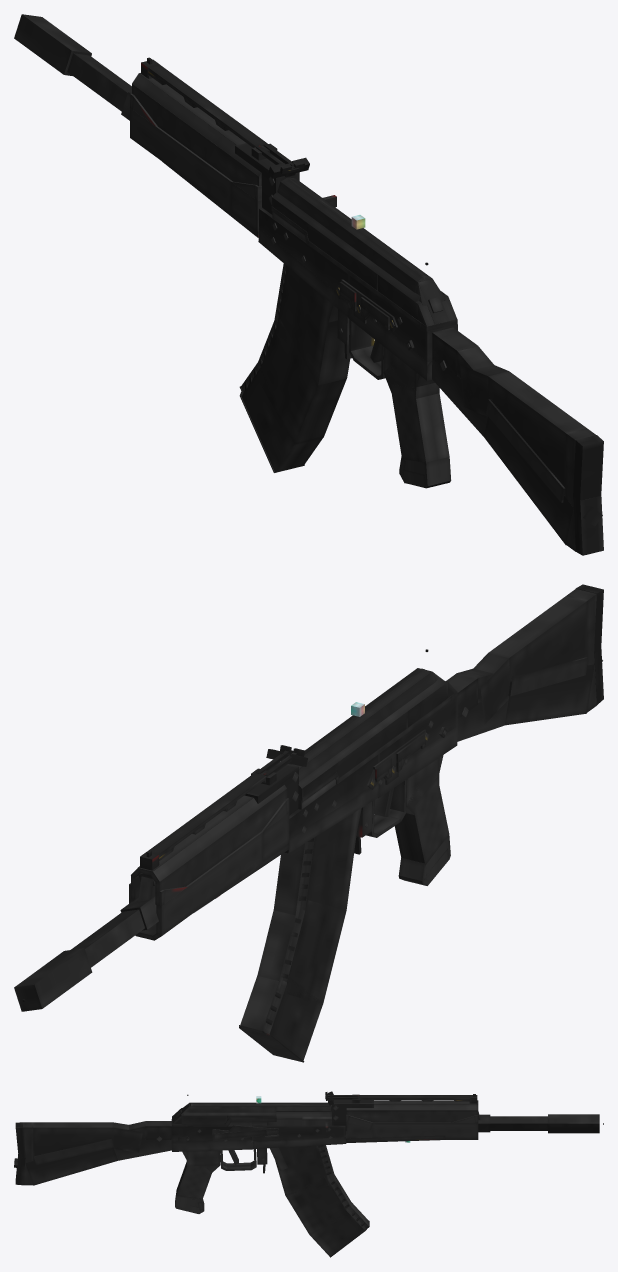
Rendered from a3_saiga12.geo.fbx.
3 renders of one model, top to bottom at view 1: azimuth 30°, elevation 25°; view 2: azimuth 150°, elevation 25°; view 3: azimuth 270°, elevation 25°, orthographic. The views are drawn at different scales.
Visible parts, largest first — view 1: stock, dustcover, gun, pgriptrigger, handguard2, magazine3, magazine1, bone8, handguard, muzbrake, barrel, lowerbody (+4 smaller); view 2: stock, magazine3, gun, dustcover, handguard2, pgriptrigger, handguard, muzbrake, bone5, magazine1, bone8, barrel (+4 smaller); view 3: stock, magazine1, handguard2, gun, dustcover, pgriptrigger, handguard, bone8, muzbrake, bolt, barrel, magazine3 (+4 smaller).
Boxes of the visible parts, x1,y1,x2,y2 form: stock: (432,327,603,555); dustcover: (271,177,457,331); gun: (121,57,457,361); pgriptrigger: (337,309,451,488); handguard2: (130,73,262,237); magazine3: (256,263,350,389); magazine1: (256,264,346,444); bone8: (241,368,323,472); handguard: (132,84,261,186); muzbrake: (14,14,91,75); barrel: (67,53,131,111); lowerbody: (348,302,432,380); stock: (446,584,603,741); magazine3: (257,808,361,1003); gun: (120,696,457,930); dustcover: (288,668,457,809); handguard2: (129,785,289,940); pgriptrigger: (354,755,450,885); handguard: (131,789,287,905); muzbrake: (14,948,92,1011); bone5: (240,976,322,1033); magazine1: (273,820,359,978); bone8: (264,993,321,1060); barrel: (71,909,144,967); stock: (14,1121,171,1185); magazine1: (270,1145,353,1234); handguard2: (346,1100,478,1141); gun: (171,1091,490,1143); dustcover: (172,1102,331,1126); pgriptrigger: (175,1148,267,1213); handguard: (346,1110,478,1122); bone8: (310,1208,368,1256); muzbrake: (548,1114,599,1133); bolt: (267,1111,331,1132); barrel: (345,1116,547,1130); magazine3: (270,1145,351,1234).
Bounding box in the file's own units: 44.39 × 211 × 707.
1 material, 1 textured.
